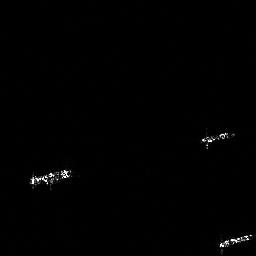ship: (26, 167, 72, 188), (198, 129, 236, 149), (216, 231, 254, 248)
